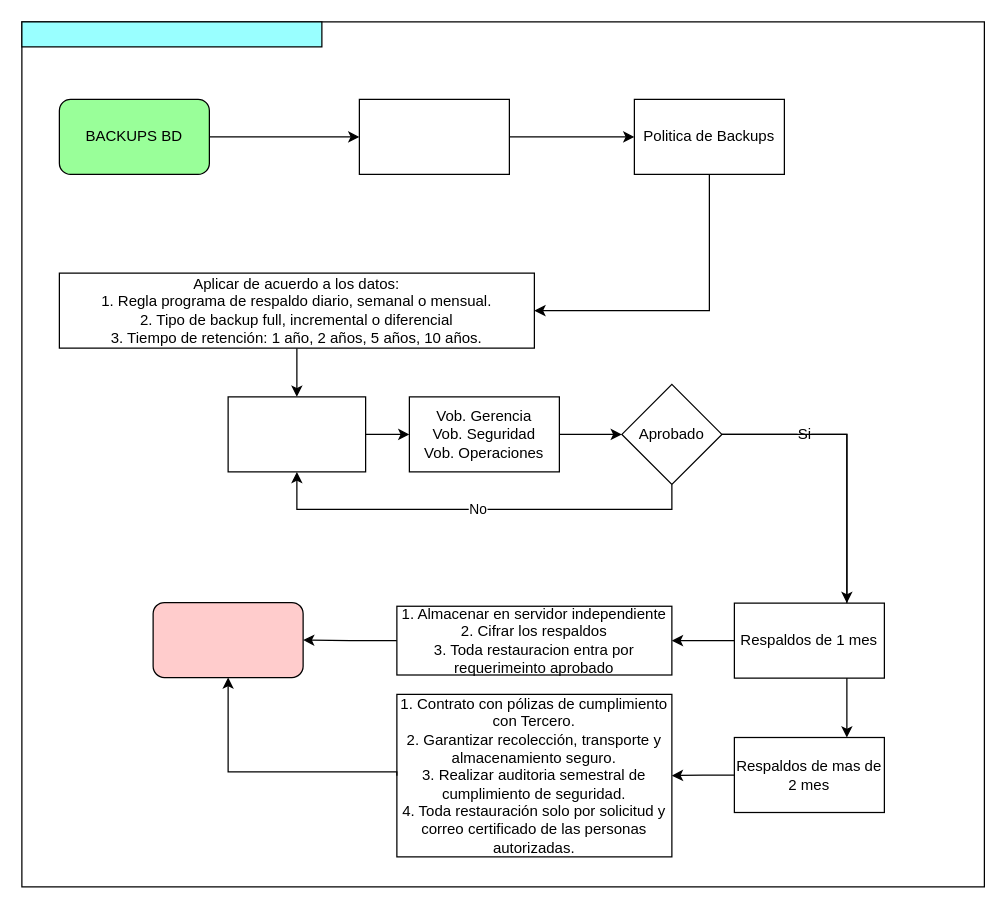
Image size: 1006x909. Some labels were removed from this diagram. Here are the shapes that lost their labels. From the top down, the centre of each, then its label:
pixel 171 34: FLUJO BACKUPS BD - SALUD CAPITAL
pixel 433 136: Proceso Creación BD
pixel 296 434: Documentar politica aplicada
pixel 227 639: FIN
